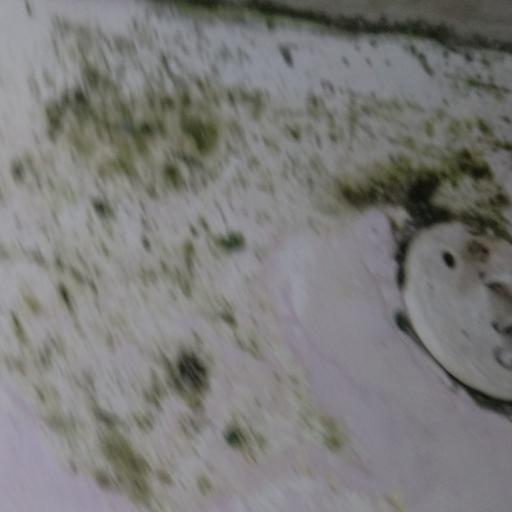algae: (24, 33, 342, 512)
